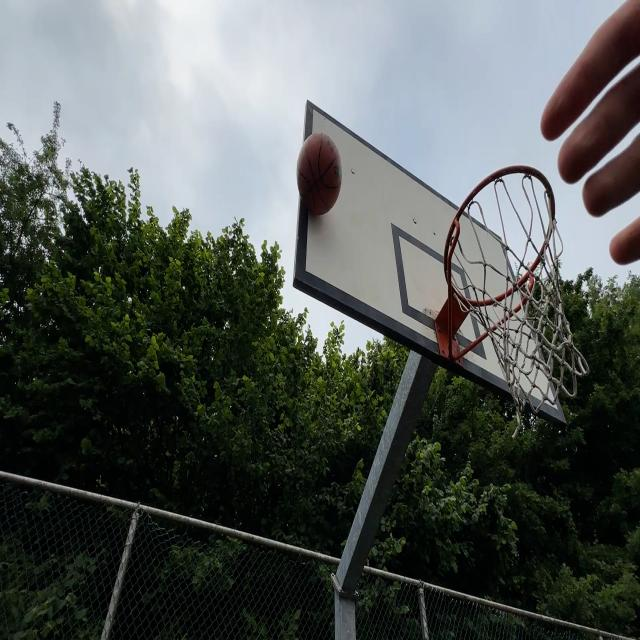rebound_hit: (296, 133, 342, 223)
